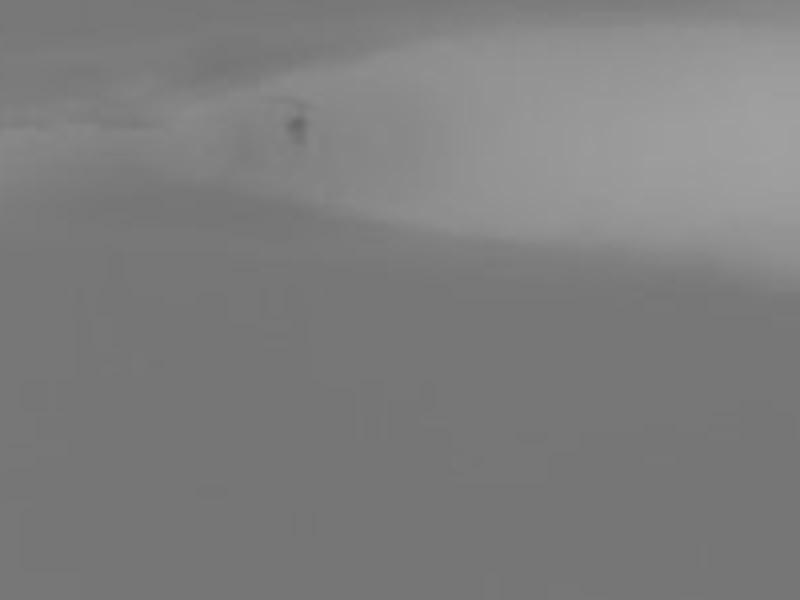defect: (286, 115, 309, 138)
